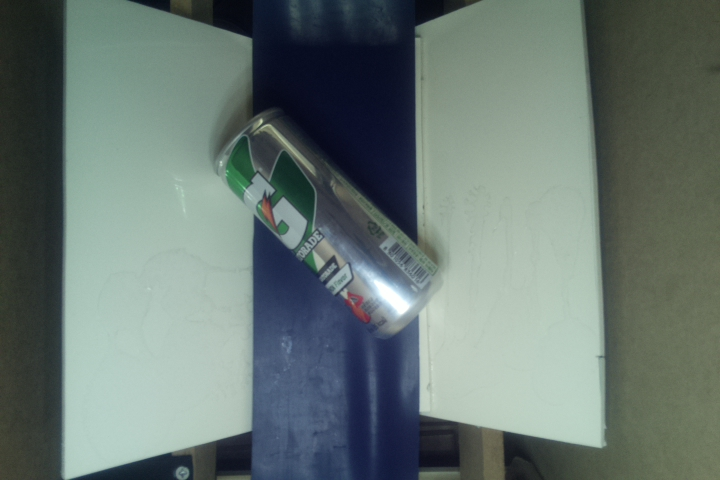can: (218, 106, 443, 341)
